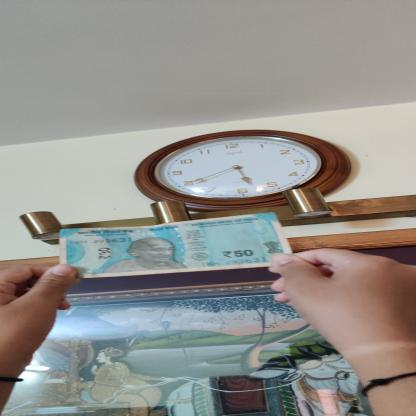New50Front: (57, 211, 294, 280)
